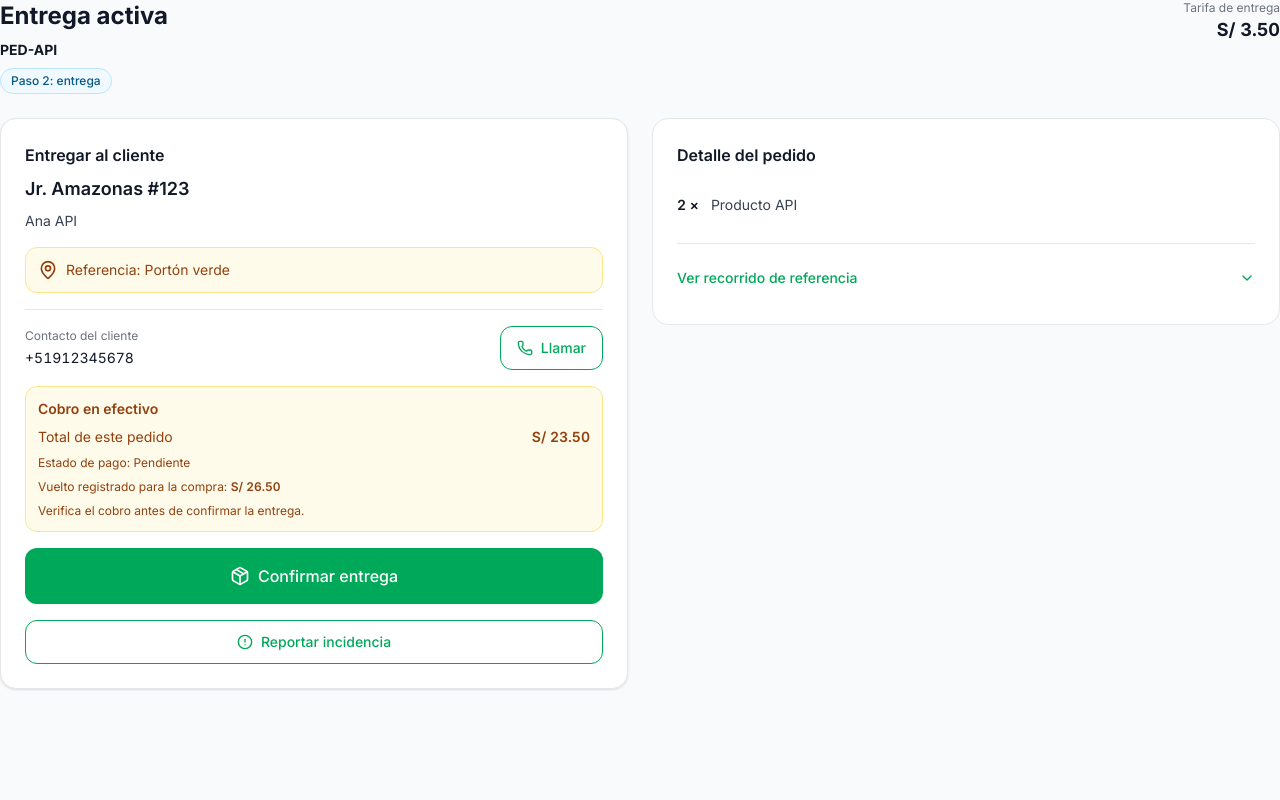
it: no entrega sin efectivo y conserva el diálogo si la respuesta es ambigua
Click the button "Confirmar entrega" at (314, 576), box [25,548,603,604]
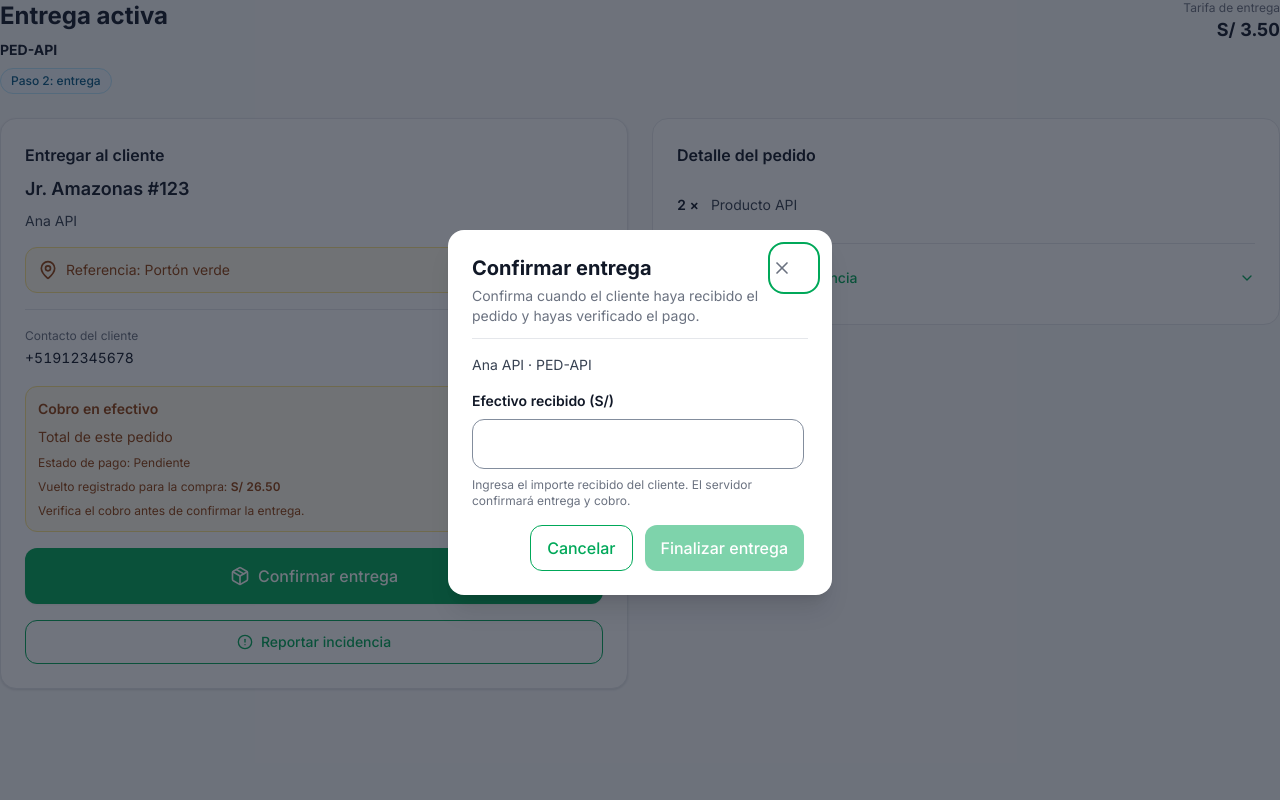
Check: the button "Finalizar entrega" is disabled, box [644,524,804,570]
Type "50.00" into the field labelled "Efectivo recibido (S/)" at (638, 444), box [472,418,804,468]
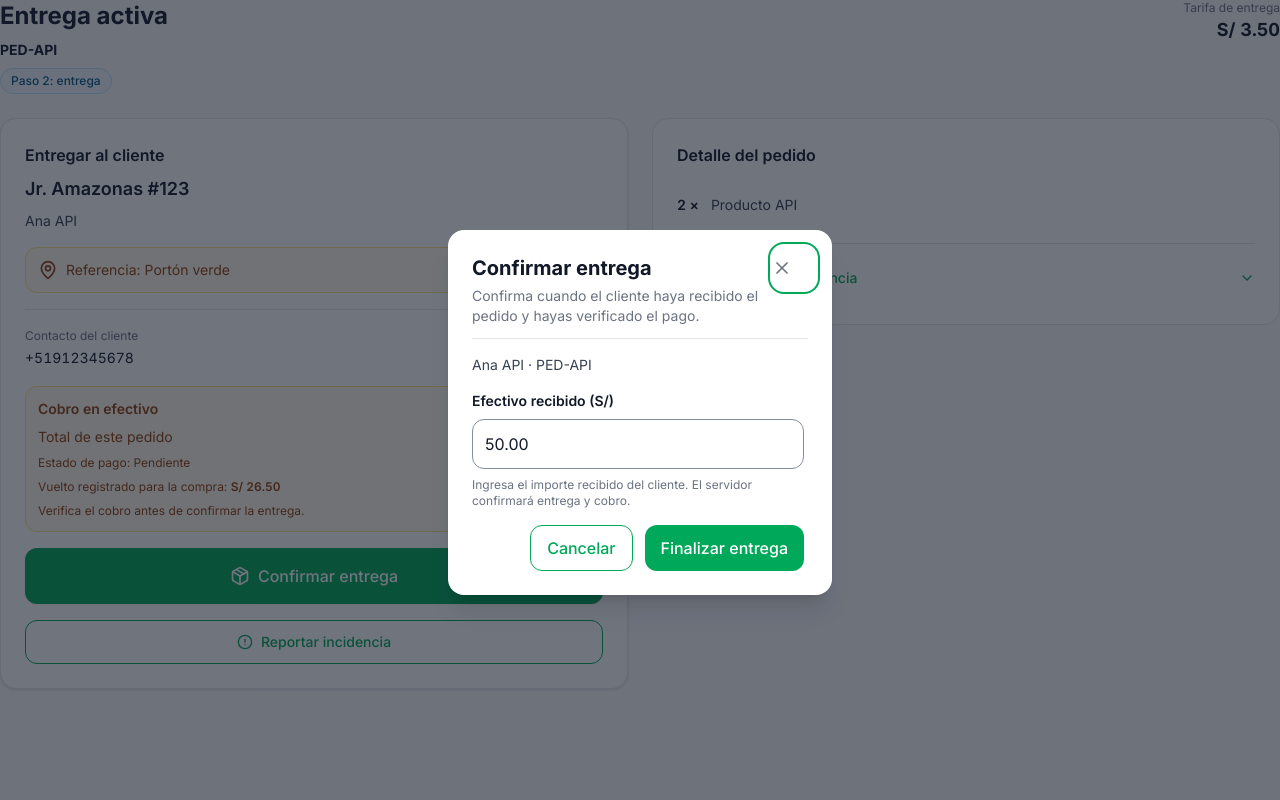
Click the button "Finalizar entrega" at (724, 548), box [644,524,804,570]
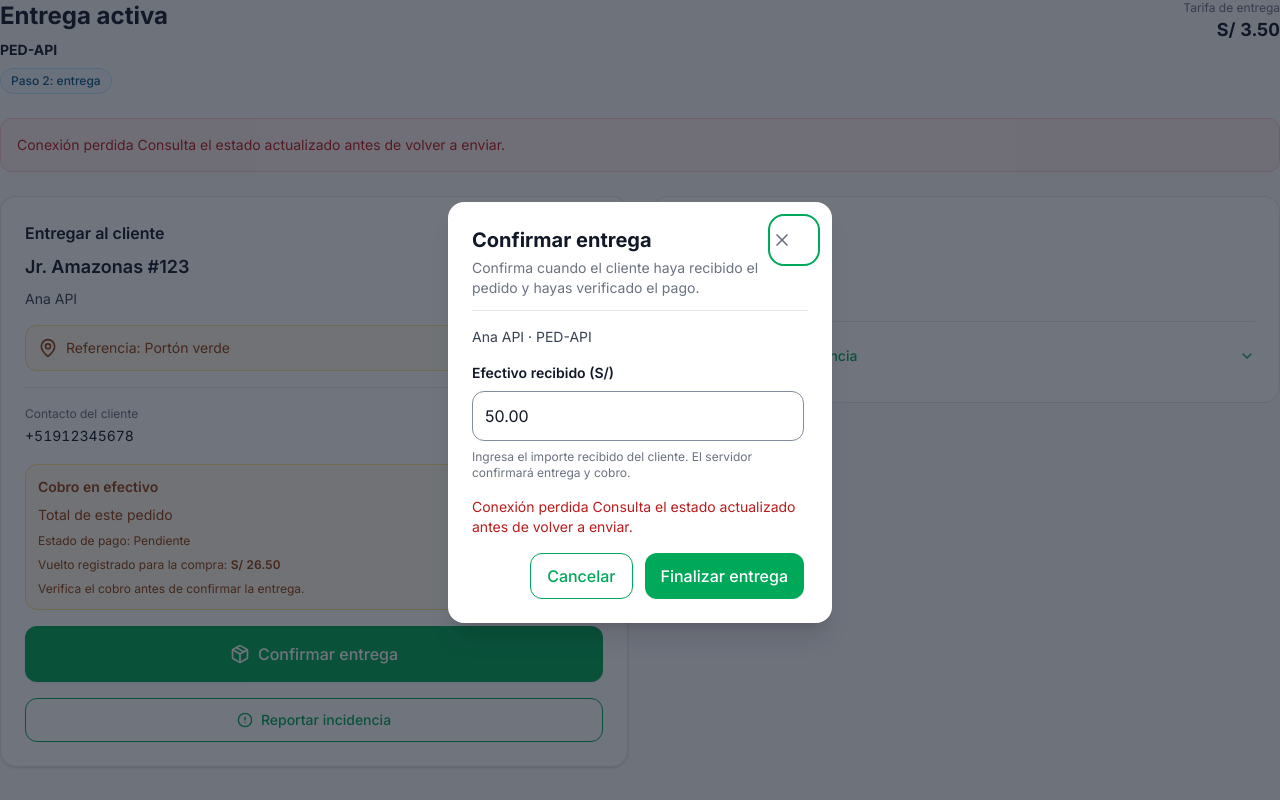
Check: the message "Conexión perdida Consulta el estado actualizado antes de volver a enviar." below "Efectivo recibido (S/)" is shown, box [472,498,796,534]
